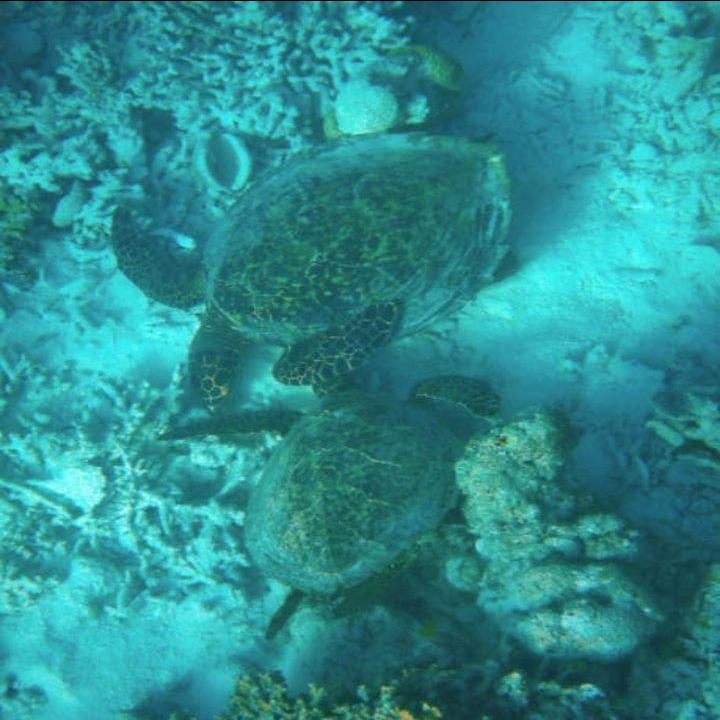Dead Coral: (20, 21, 206, 598), (460, 385, 659, 668)
